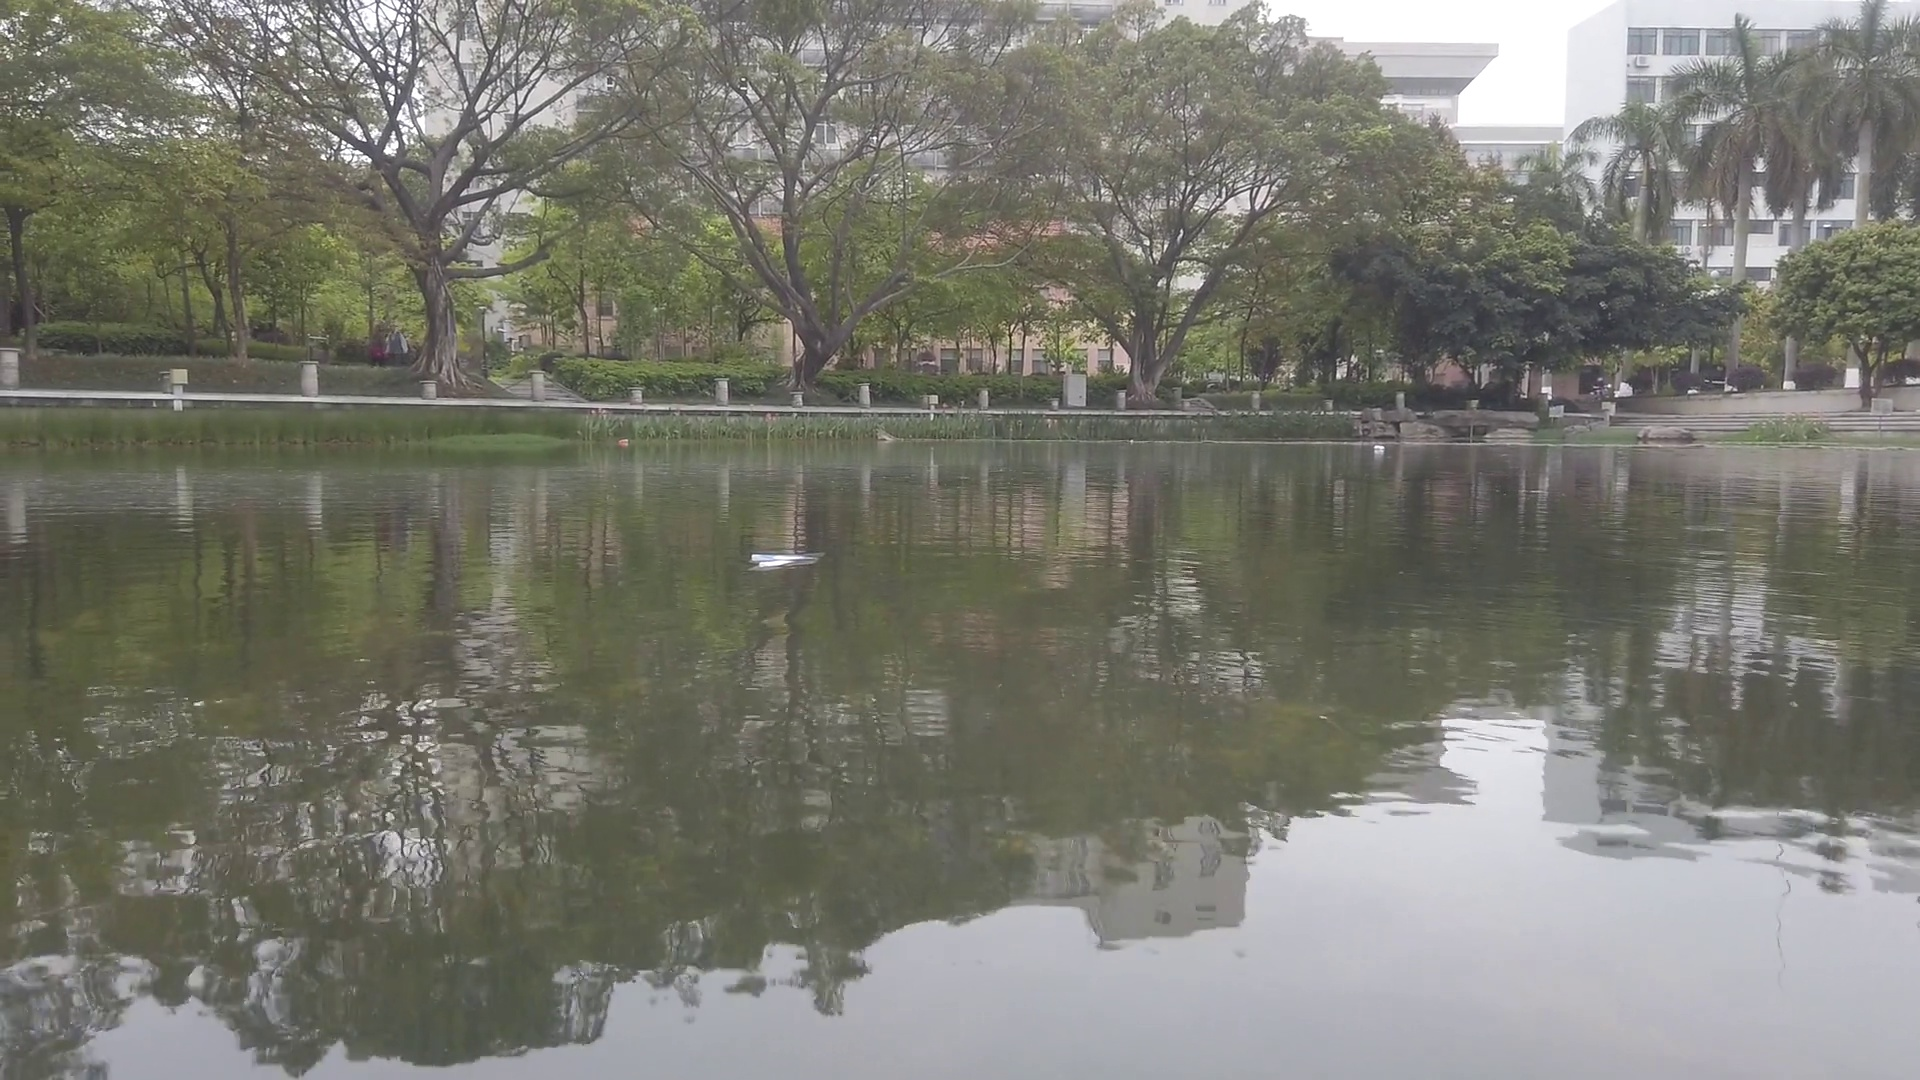bottle: (1367, 444, 1385, 454), (620, 440, 629, 443)
paper: (749, 550, 819, 566)
